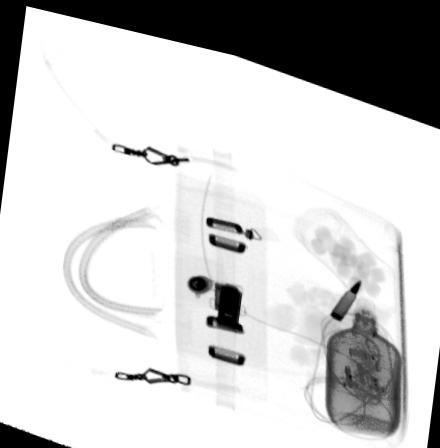Bullet: (329, 262, 360, 306)
